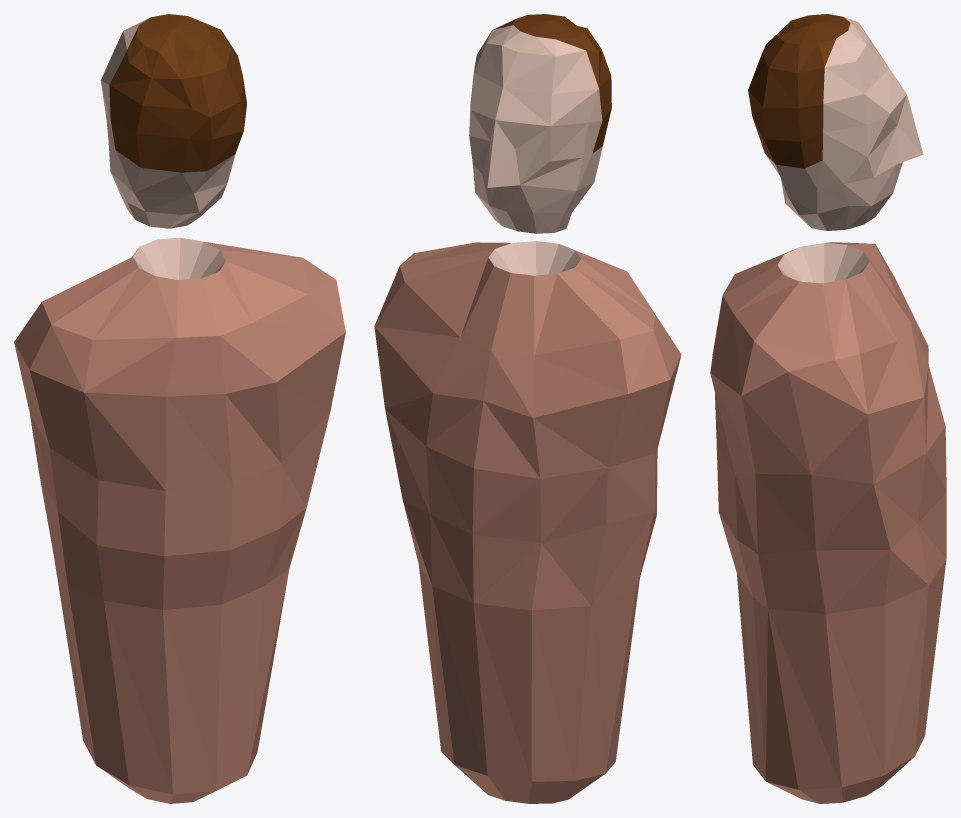
Rendered from Man.glb.
The picture shows the model from 3 angles, left to right: view 1: azimuth 30°, elevation 25°; view 2: azimuth 150°, elevation 25°; view 3: azimuth 270°, elevation 25°; orthographic projection.
Parts seen in each view (by area): view 1: Body, Head; view 2: Body, Head; view 3: Body, Head.
Part boxes in pixels (<box>): Body: <box>14,237,345,803</box>; Head: <box>100,14,246,228</box>; Body: <box>374,241,681,803</box>; Head: <box>469,14,611,233</box>; Body: <box>710,242,946,803</box>; Head: <box>748,14,923,230</box>.
Size of the model in its own units: 0.6341 by 1.66 by 0.4653.
